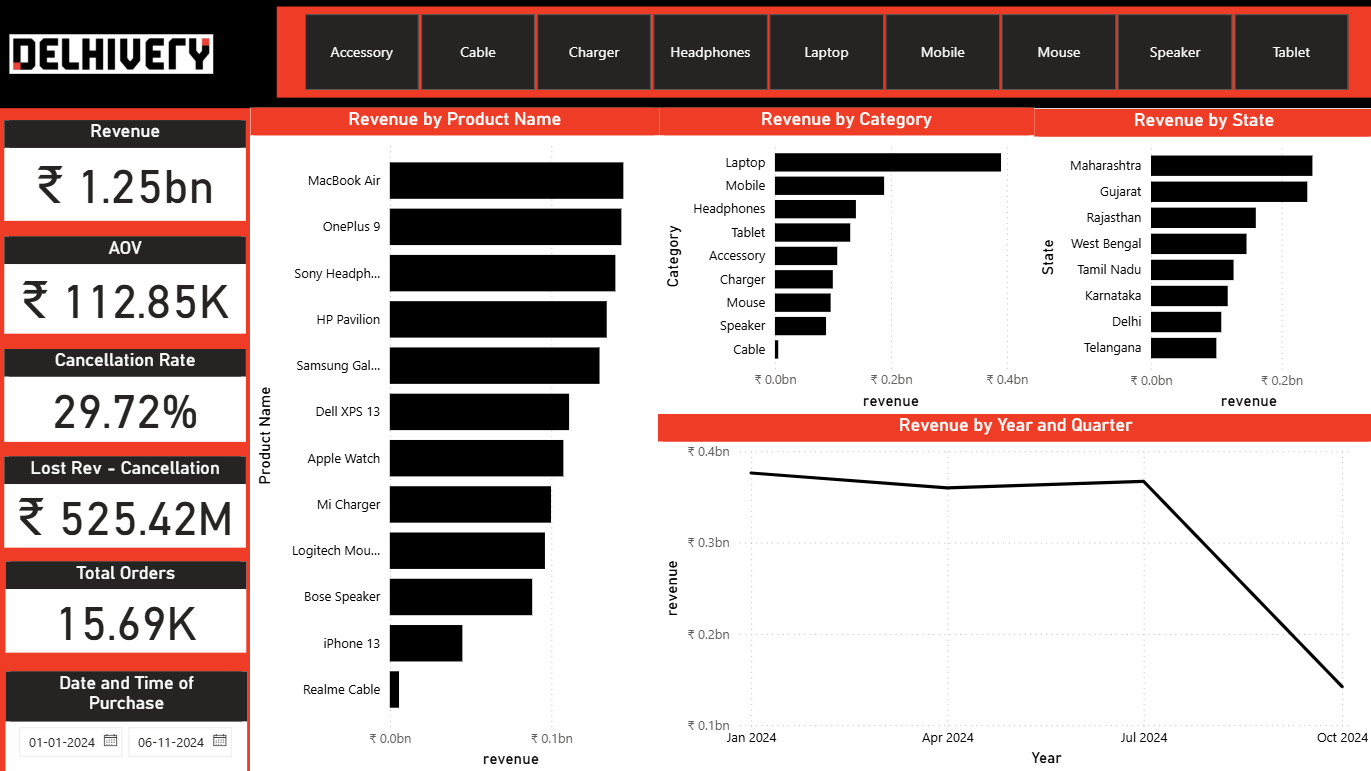

Layout of this report page (visuals, bound fields, positions):
{"tool":"powerbi","page":{"name":"Page 1","canvas":[1280,720],"ordinal":0},"visuals":[{"type":"shape","box":[0,0,1280.3,101.5],"z":0},{"type":"shape","box":[0,101.5,212.7,618.9],"z":1000},{"type":"barChart","title":"Revenue by Product Name","fields":{"Category":["products.Product Name"],"Y":["Table.Revenue"]},"box":[212.7,101.5,380.1,618.9],"z":2000},{"type":"barChart","title":"Revenue by Category","fields":{"Category":["products.Category"],"Y":["Table.Revenue"]},"box":[614.8,101.5,348.5,285.4],"z":3000},{"type":"lineChart","title":"Revenue by Day","fields":{"Category":["orders.Date and time of purchase.Variation.Date Hierarchy.Year","orders.Date and time of purchase.Variation.Date Hierarchy.Quarter","orders.Date and time of purchase.Variation.Date Hierarchy.Month","orders.Date and time of purchase.Variation.Date Hierarchy.Day"],"Y":["Table.Revenue"]},"box":[614.8,387,665.5,333.4],"z":4000},{"type":"barChart","title":"Revenue by State","fields":{"Category":["customers.State"],"Y":["Table.Revenue"]},"box":[964,102,316,285],"z":5000},{"type":"slicer","fields":{"Values":["products.Category"]},"box":[259.3,7,1020.9,84.9],"z":6000},{"type":"card","title":"AOV","fields":{"Values":["Table.AOV"]},"box":[0,225,211.3,98.8],"z":7000},{"type":"card","title":"Cancellation Rate","fields":{"Values":["Table.cancellation_rate"]},"box":[0,341.7,211.3,90.6],"z":8000},{"type":"card","title":"Revenue","fields":{"Values":["Table.Revenue"]},"box":[1.4,118,211.3,90.6],"z":9000},{"type":"card","title":"Lost Revenue Cancellation","fields":{"Values":["Table.Revenue"]},"box":[1.4,450.1,209.9,93.3],"z":10000},{"type":"slicer","fields":{"Values":["orders.Date and time of purchase"]},"box":[1.4,568.1,211.3,127.6],"z":11000},{"type":"image","box":[5.3,0,199.8,102],"z":12000}]}

Visuals, with their boxes in screenshot pixels (x1, y1, x2, y2), scaled from the page's 1280x720 canvas onto the 1371x771 screenshot:
shape: x1=0, y1=0, x2=1370, y2=109
shape: x1=0, y1=109, x2=228, y2=770
"Revenue by Product Name" barChart: x1=228, y1=109, x2=635, y2=770
"Revenue by Category" barChart: x1=659, y1=109, x2=1032, y2=414
"Revenue by Day" lineChart: x1=659, y1=414, x2=1370, y2=770
"Revenue by State" barChart: x1=1033, y1=109, x2=1370, y2=414
slicer - products.Category: x1=278, y1=7, x2=1370, y2=98
"AOV" card: x1=0, y1=241, x2=226, y2=347
"Cancellation Rate" card: x1=0, y1=366, x2=226, y2=463
"Revenue" card: x1=1, y1=126, x2=228, y2=223
"Lost Revenue Cancellation" card: x1=1, y1=482, x2=226, y2=582
slicer - orders.Date and time of purchase: x1=1, y1=608, x2=228, y2=745
image: x1=6, y1=0, x2=220, y2=109
